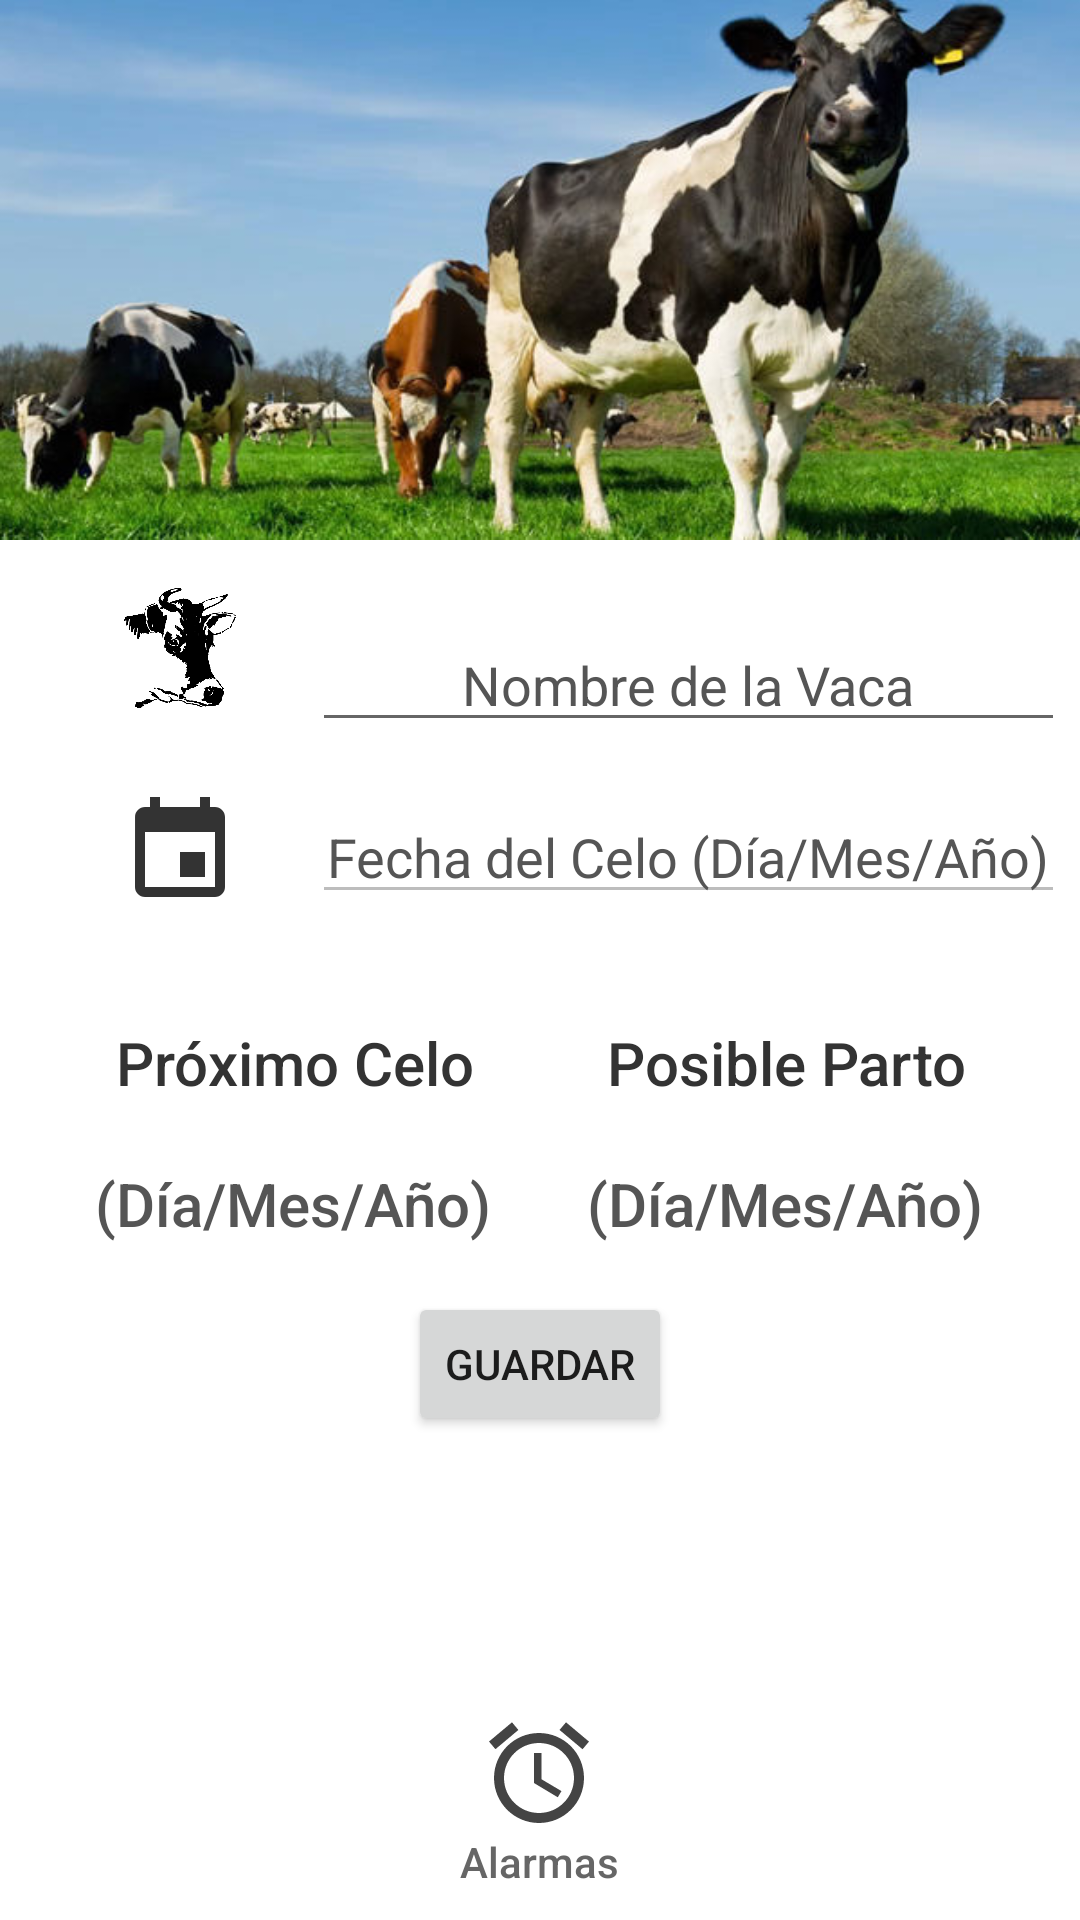

Icons on this 1080*1920 Android screen, each with the point to tap as point (x, y):
calendar: point (180, 847)
